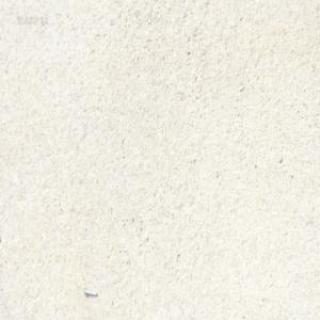Nailtrack_idkeyframe: (81, 286, 98, 297)
